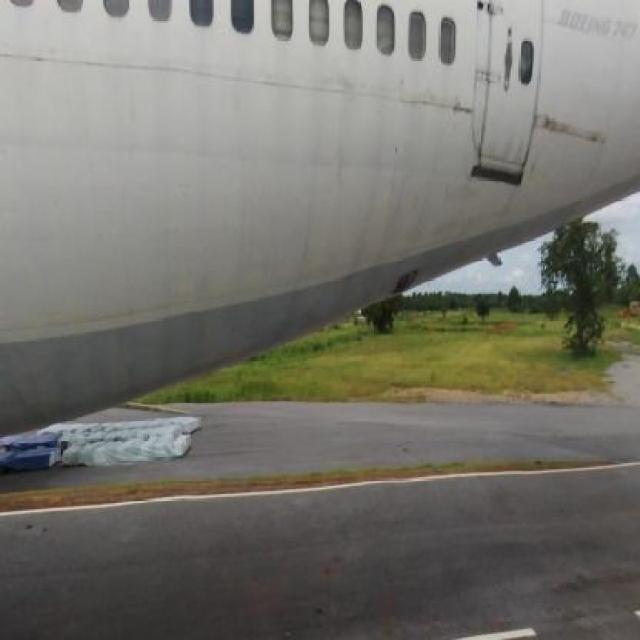Rust: (541, 93, 608, 169), (496, 126, 530, 180)
Scartch: (327, 55, 371, 198), (394, 74, 423, 118), (450, 78, 476, 122)
